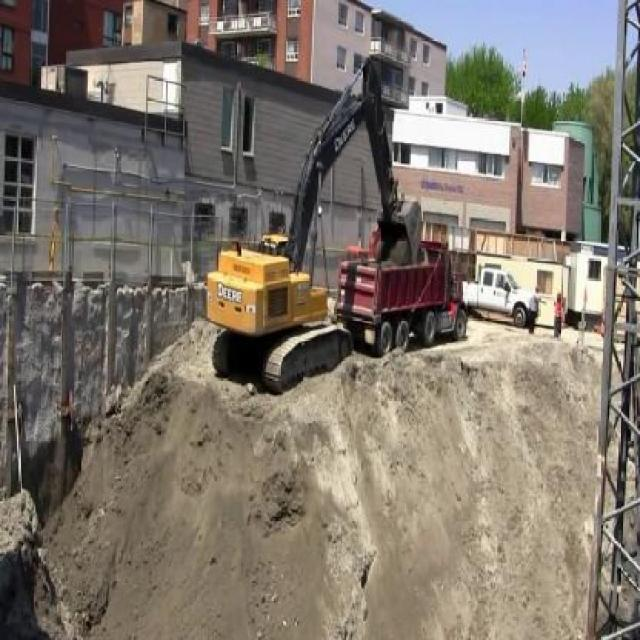Dump Truck: (341, 241, 465, 356)
Excavator: (205, 58, 420, 384)
